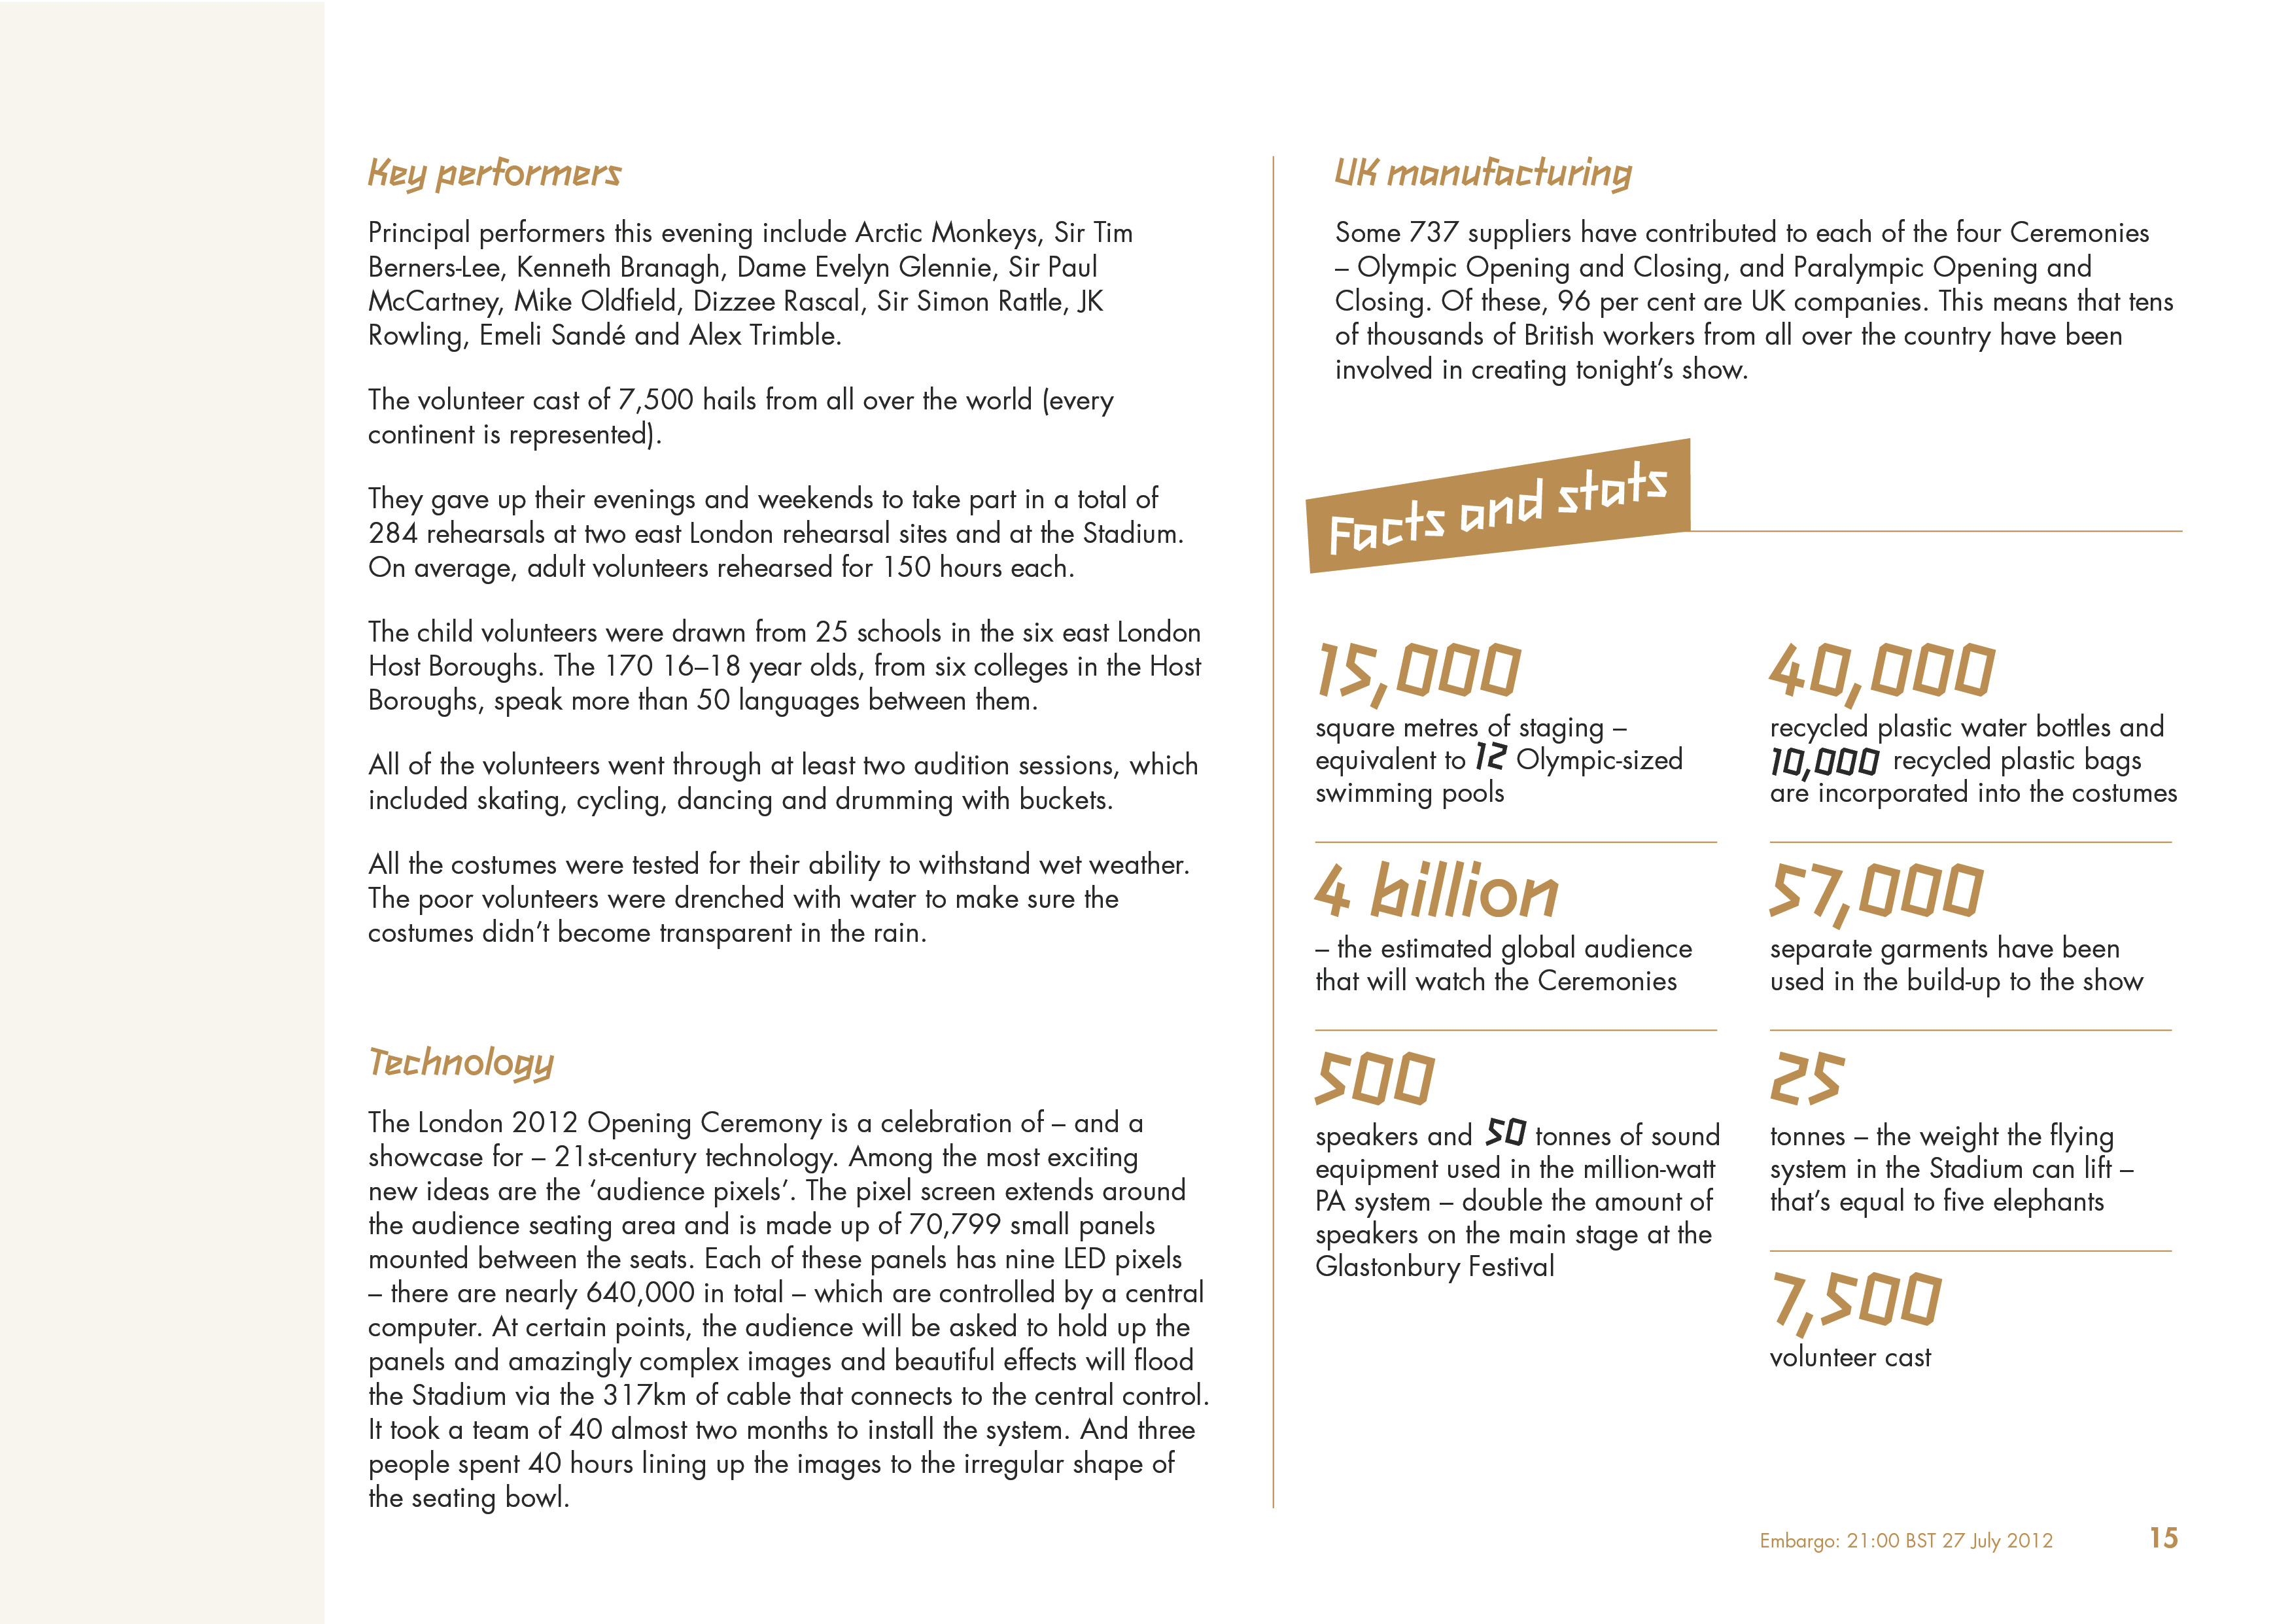section: (1322, 460, 1668, 561), (1772, 852, 1990, 923), (1772, 640, 1991, 703), (1325, 863, 1561, 921), (1311, 640, 1522, 703), (1336, 155, 1631, 195), (362, 1040, 562, 1088), (360, 160, 617, 192), (1772, 1276, 1933, 1325), (1316, 1044, 1440, 1107), (1772, 1044, 1839, 1109)
text: (373, 1102, 1215, 1513), (1329, 220, 2181, 380), (367, 220, 1135, 359), (369, 615, 1209, 722), (366, 852, 1183, 949), (376, 483, 1176, 576), (1316, 1121, 1719, 1278), (366, 747, 1202, 810), (366, 383, 1111, 448), (1775, 717, 2178, 805), (1316, 722, 1682, 814), (1772, 1125, 2120, 1218), (1315, 937, 1691, 1002), (1772, 942, 2146, 995), (1758, 1527, 2064, 1555), (1768, 1343, 1933, 1376), (2141, 1512, 2187, 1552)
